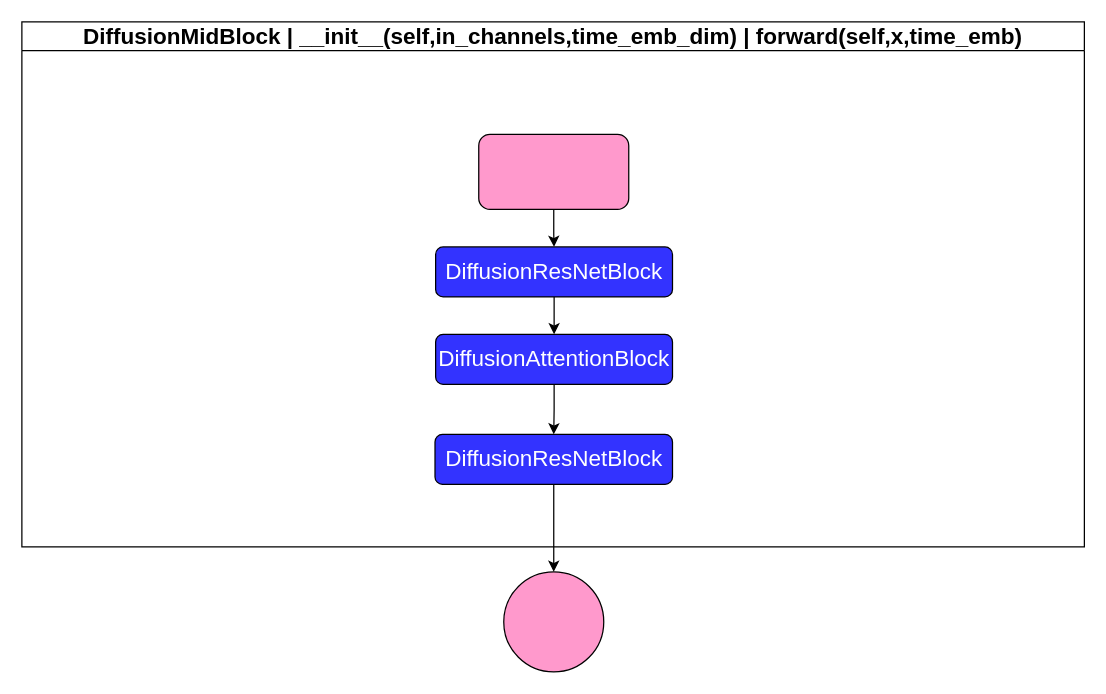
Some shapes in this 1106 by 694 pixel diagram are drawn without their labels. The shapes that lost their labels are listed below. From the top down, each one's centre as x and y in pixels, then its label:
At (x=553, y=171): "x,time_emb".
At (x=553, y=621): "Out".
